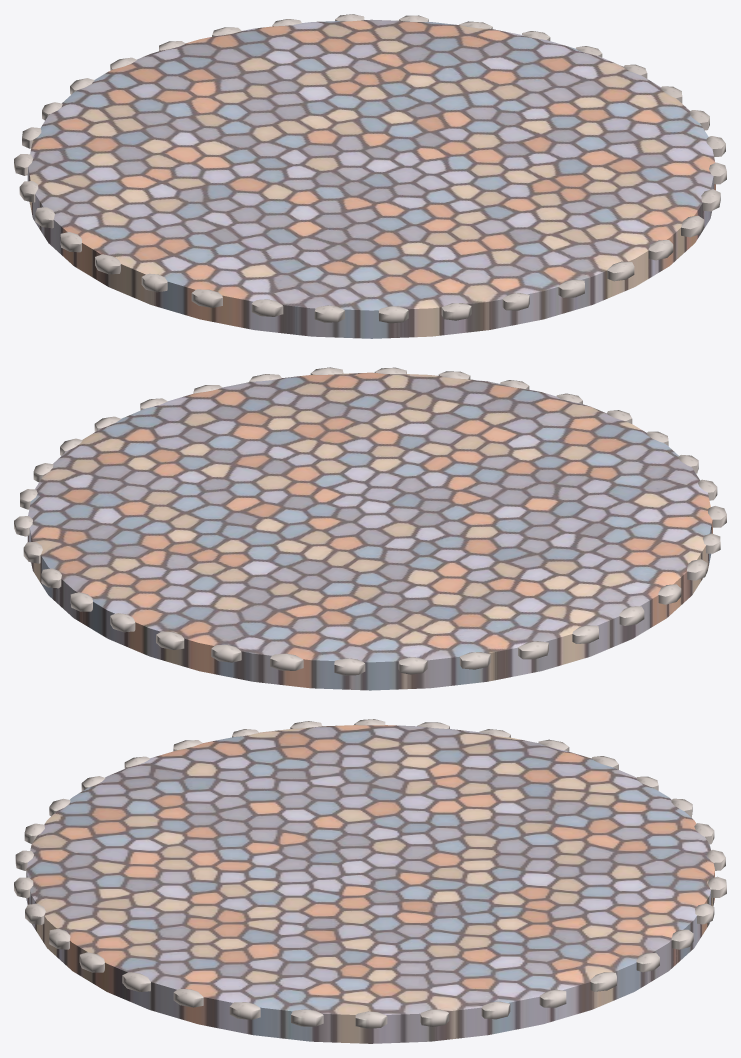
The model's file is cobble_patch.glb.
3 views of the same model, one above another, from view 1: azimuth 30°, elevation 25°; view 2: azimuth 150°, elevation 25°; view 3: azimuth 270°, elevation 25° (orthographic).
Parts seen in each view (by area): view 1: cobble_patch; view 2: cobble_patch; view 3: cobble_patch.
Boxes of the visible parts, x1,y1,x2,y2 form: cobble_patch: [14, 14, 726, 338]; cobble_patch: [14, 367, 726, 690]; cobble_patch: [14, 719, 726, 1043].
Size of the model in its own units: 8 by 0.4004 by 7.99.
Materials: 1 (1 with a texture image).
